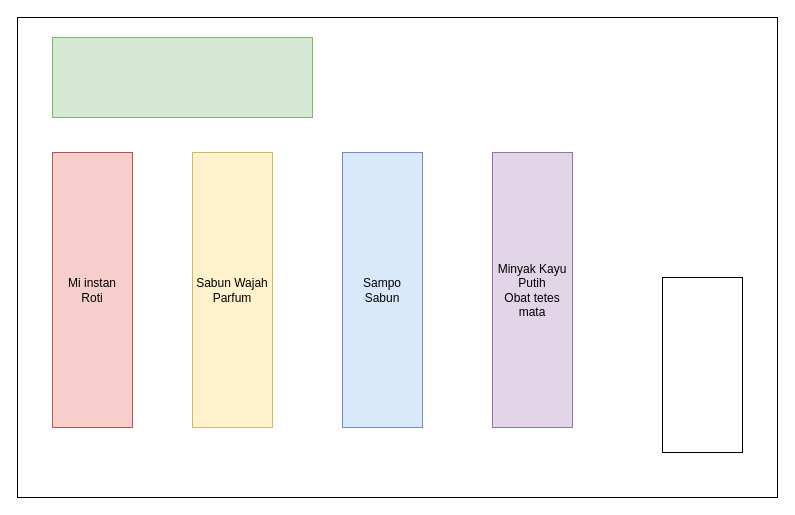
Image size: 795x515. Some labels were removed from this diagram. The centre of each missing label's shape, as x and y in pixels:
"Kasir" belongs at (702,364).
"Kopi Susu UHT" belongs at (182,77).
